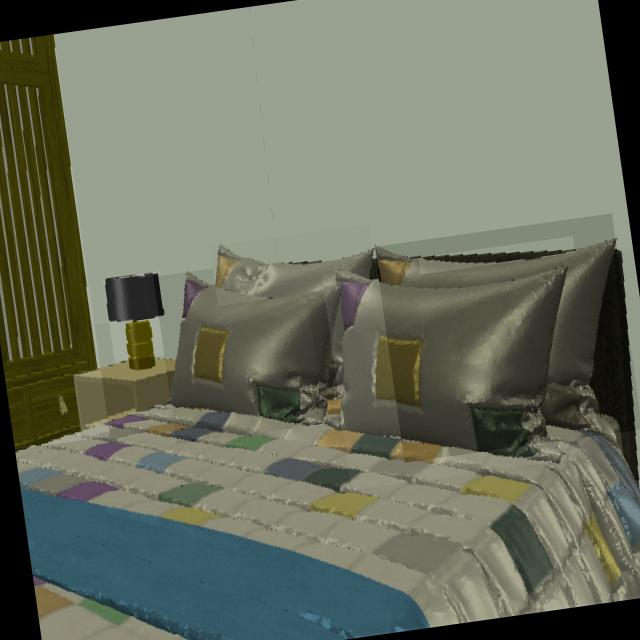bed: (16, 251, 640, 640), (418, 251, 575, 264)
lamp: (106, 275, 166, 370)
nighttable: (74, 361, 176, 429)
pillow: (374, 239, 617, 433), (336, 268, 566, 463), (171, 273, 341, 426), (215, 245, 374, 299), (320, 301, 345, 385)
wardrobe: (0, 34, 98, 450)
